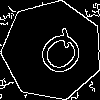Q: (27, 25, 90, 87)
